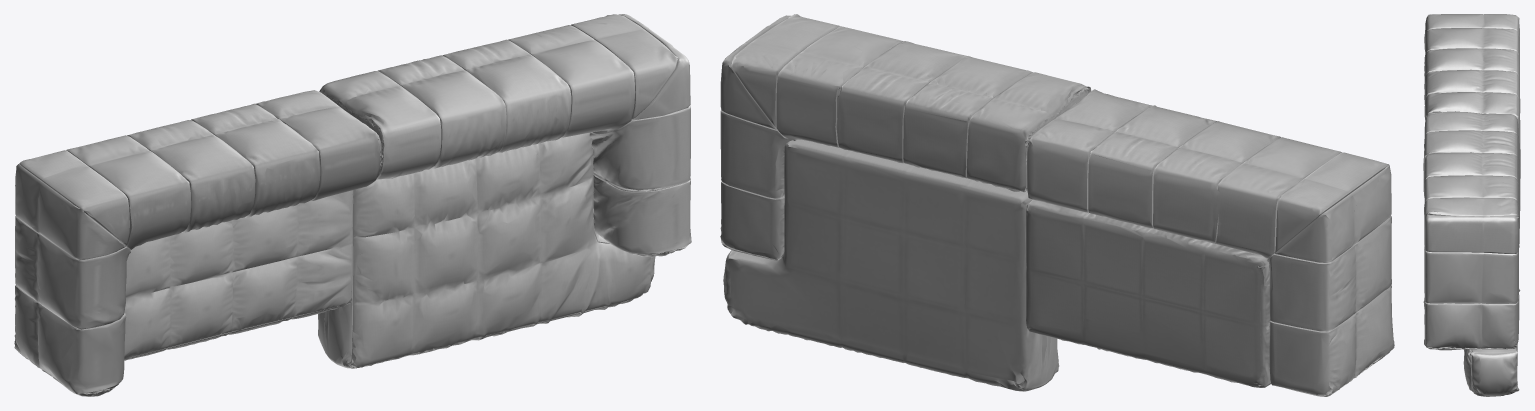
Rendered from raw_model.glb.
3 views of the same model, side by side, from view 1: azimuth 30°, elevation 25°; view 2: azimuth 150°, elevation 25°; view 3: azimuth 270°, elevation 25° (orthographic). The views are drawn at different scales.
Visible parts, largest first — view 1: raw_model.029; view 2: raw_model.029; view 3: raw_model.029.
Part boxes in pixels (box(x1,y1,x2,y2)): raw_model.029: box(14, 14, 691, 396); raw_model.029: box(720, 14, 1394, 396); raw_model.029: box(1423, 14, 1520, 396).
Size of the model in its own units: 3.3 by 1.41 by 0.6343.
1 material, 1 textured.
